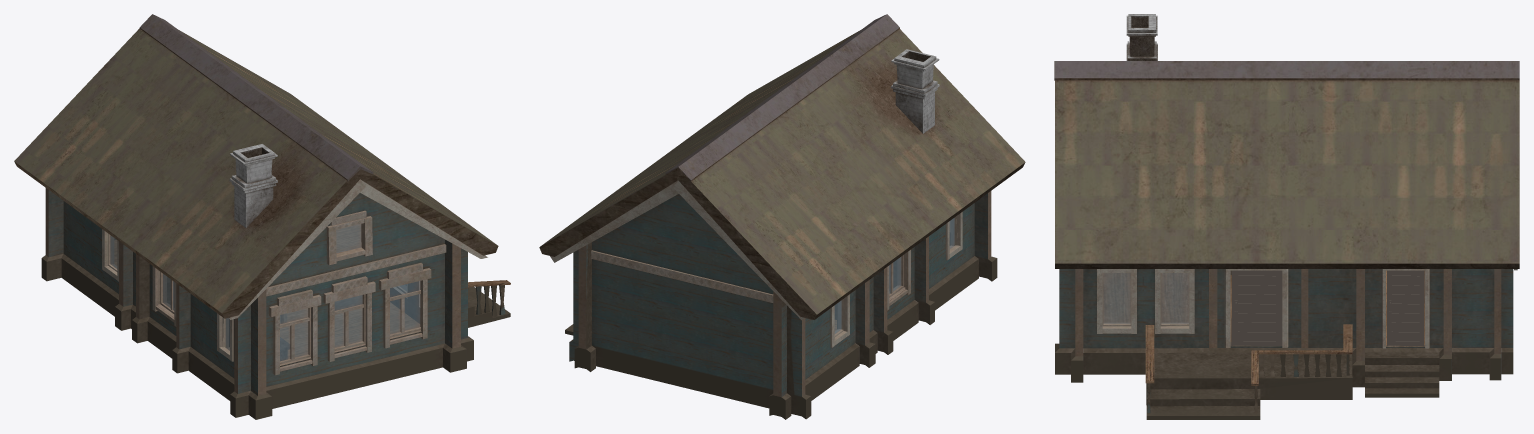
Rendered from wooden_manor.glb.
The picture shows the model from 3 angles, left to right: view 1: azimuth 30°, elevation 25°; view 2: azimuth 150°, elevation 25°; view 3: azimuth 270°, elevation 25°; orthographic projection. The views are drawn at different scales.
Parts seen in each view (by area): view 1: object 1, Object001_PivotDoor001_0, object 4, object 2, object 3; view 2: object 1, Object001_PivotDoor001_0, object 4, object 3, object 2; view 3: object 1, Object001_PivotDoor001_0, object 4, PivotDoor001, object 2, object 3.
Boxes of the visible parts, x1,y1,x2,y2 form: object 1: (14,14,498,318); Object001_PivotDoor001_0: (41,190,510,419); object 4: (45,179,510,395); object 2: (110,224,420,361); object 3: (229,144,289,360); object 1: (539,14,1025,319); Object001_PivotDoor001_0: (565,193,997,419); object 4: (550,180,991,397); object 3: (891,49,939,133); object 2: (834,218,954,333); object 1: (1054,61,1519,268); Object001_PivotDoor001_0: (1055,269,1513,419); object 4: (1075,269,1517,385); PivotDoor001: (1231,270,1424,346); object 2: (1103,270,1424,345); object 3: (1126,14,1157,60).
Size of the model in its own units: 5.14 by 3.4 by 5.57.
6 materials, 6 textured.
